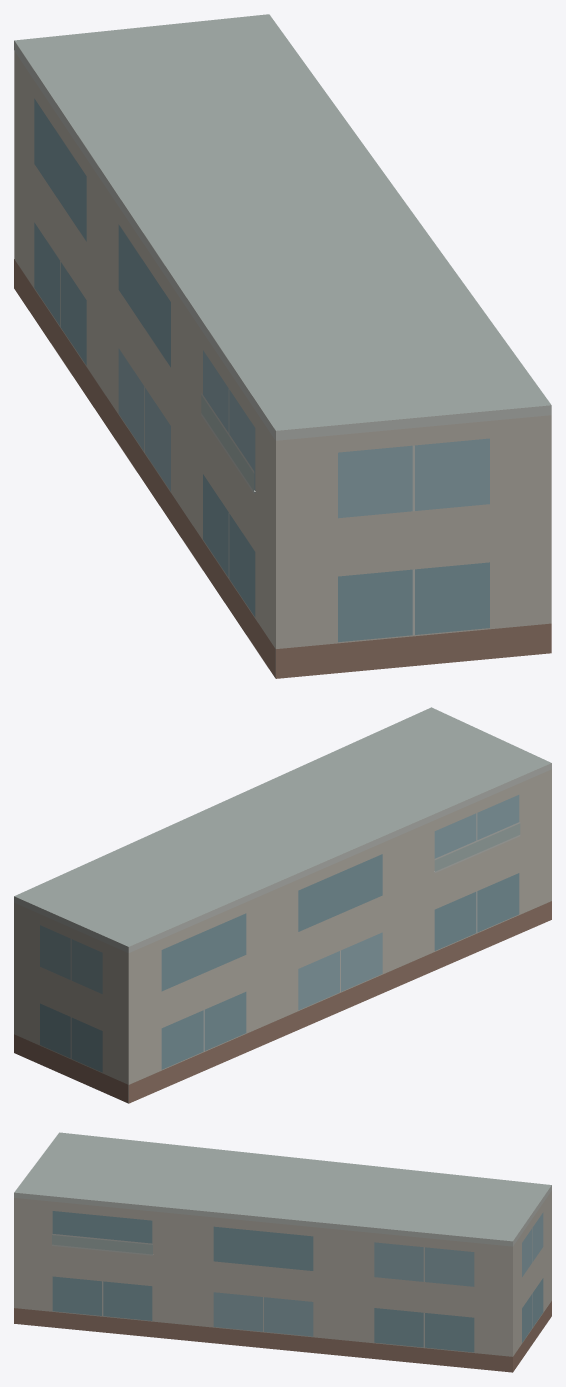
File: survey-upis-32887259.glb
The picture shows the model from 3 angles, top to bottom: view 1: azimuth 30°, elevation 25°; view 2: azimuth 150°, elevation 25°; view 3: azimuth 270°, elevation 25°; orthographic projection. The views are drawn at different scales.
Parts seen in each view (by area): view 1: survey-upis-32887259.tmp; view 2: survey-upis-32887259.tmp; view 3: survey-upis-32887259.tmp.
Part boxes in pixels (box(x1,y1,x2,y2)): survey-upis-32887259.tmp: box(14, 14, 551, 678); survey-upis-32887259.tmp: box(14, 707, 551, 1103); survey-upis-32887259.tmp: box(14, 1132, 551, 1372).
Size of the model in its own units: 10.88 by 6.1 by 22.68.
